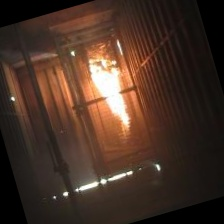fire: (82, 40, 150, 142)
